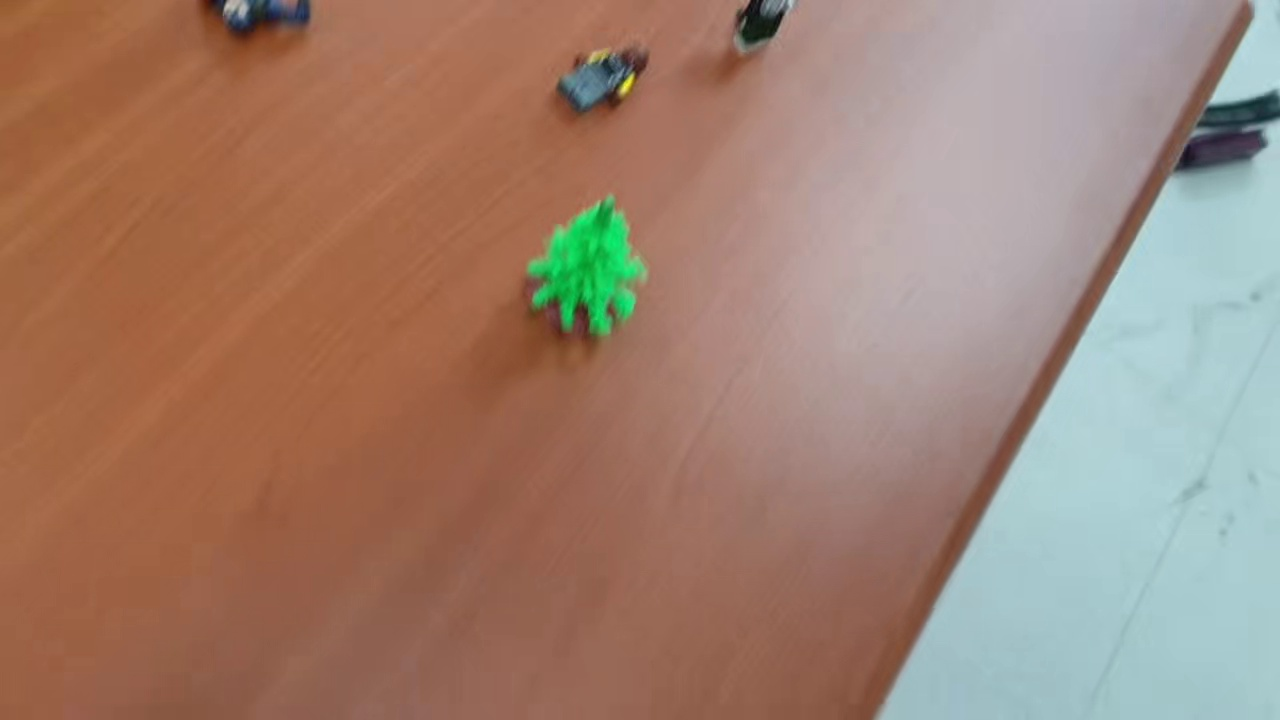people: (556, 41, 654, 120), (726, 1, 791, 62)
tree: (525, 192, 650, 346)
